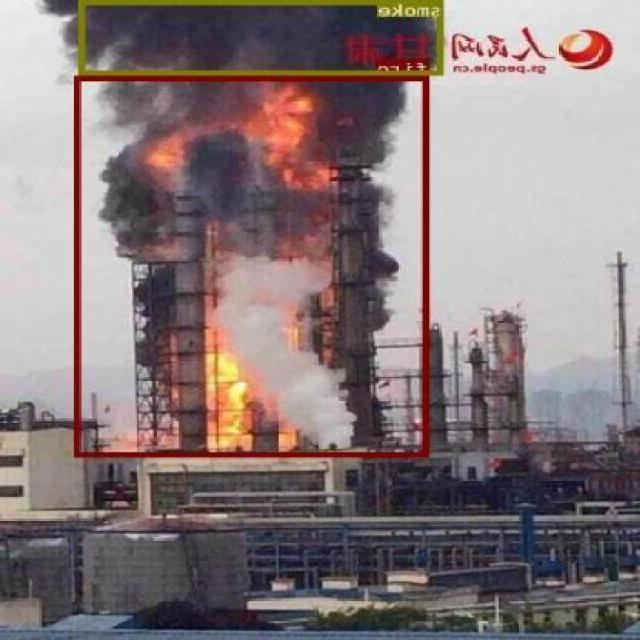Fire: (76, 74, 430, 457)
Smoke: (80, 0, 445, 74)
